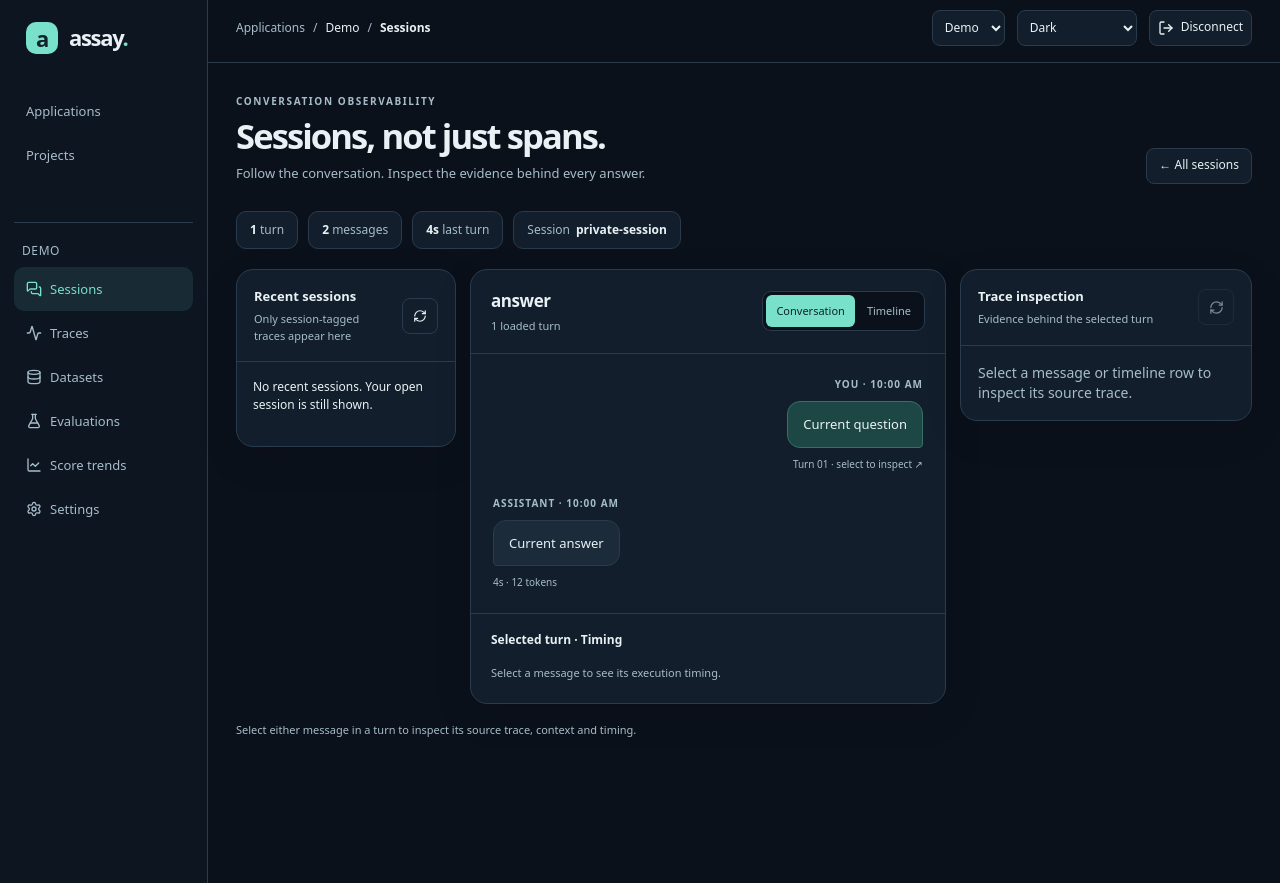
Test: inspector reveals model tools, context and scores
The image size is (1280, 883).
Expected: the text "Prior model context" is not shown
Click the button named "Inspect source for assistant message": (556, 543) [493, 520, 620, 566]
(page scrolled)
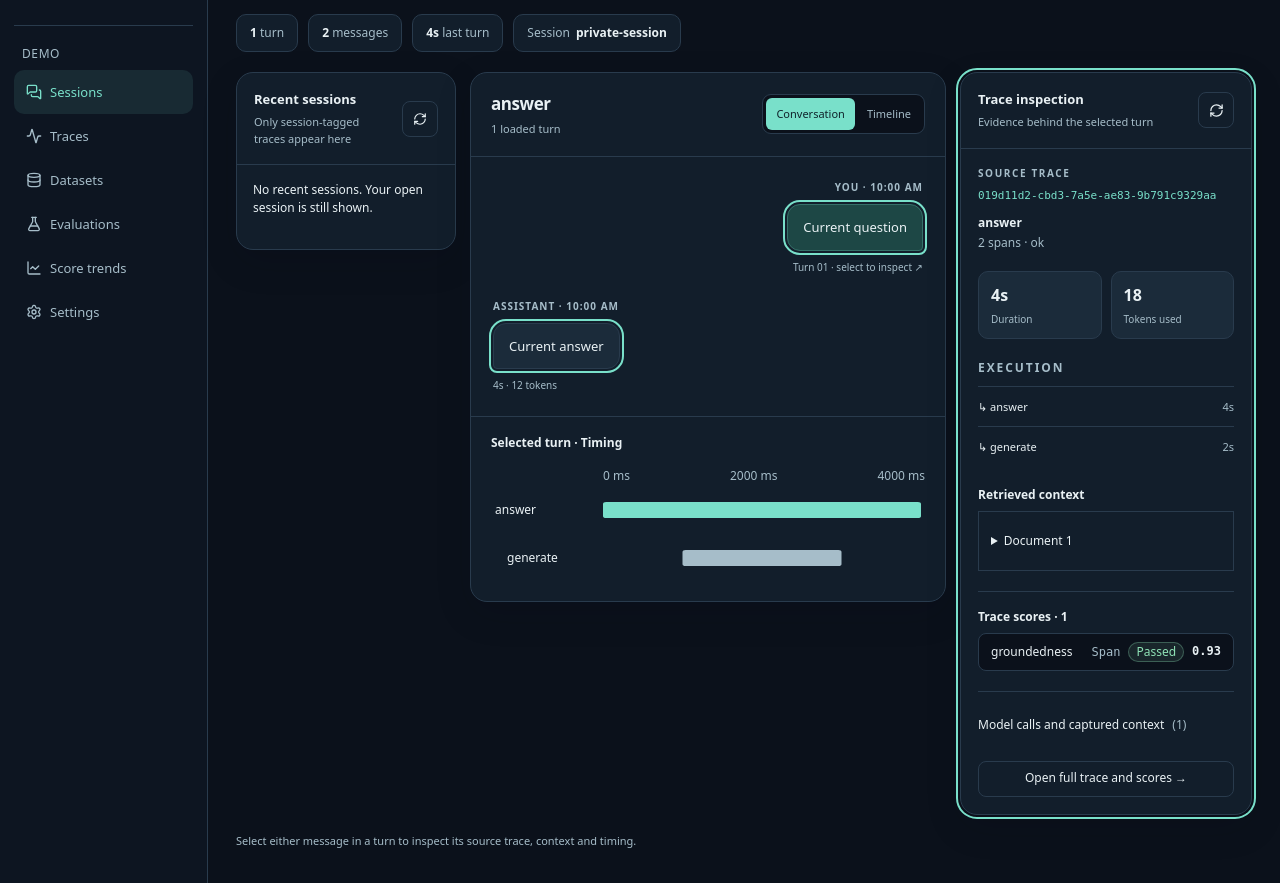
Result: the text "groundedness" is shown at [991, 643, 1072, 660]
Result: the text "0.93" is shown at [1192, 643, 1221, 660]
Click the text "Model calls and captured context": (1071, 724) [978, 716, 1164, 733]
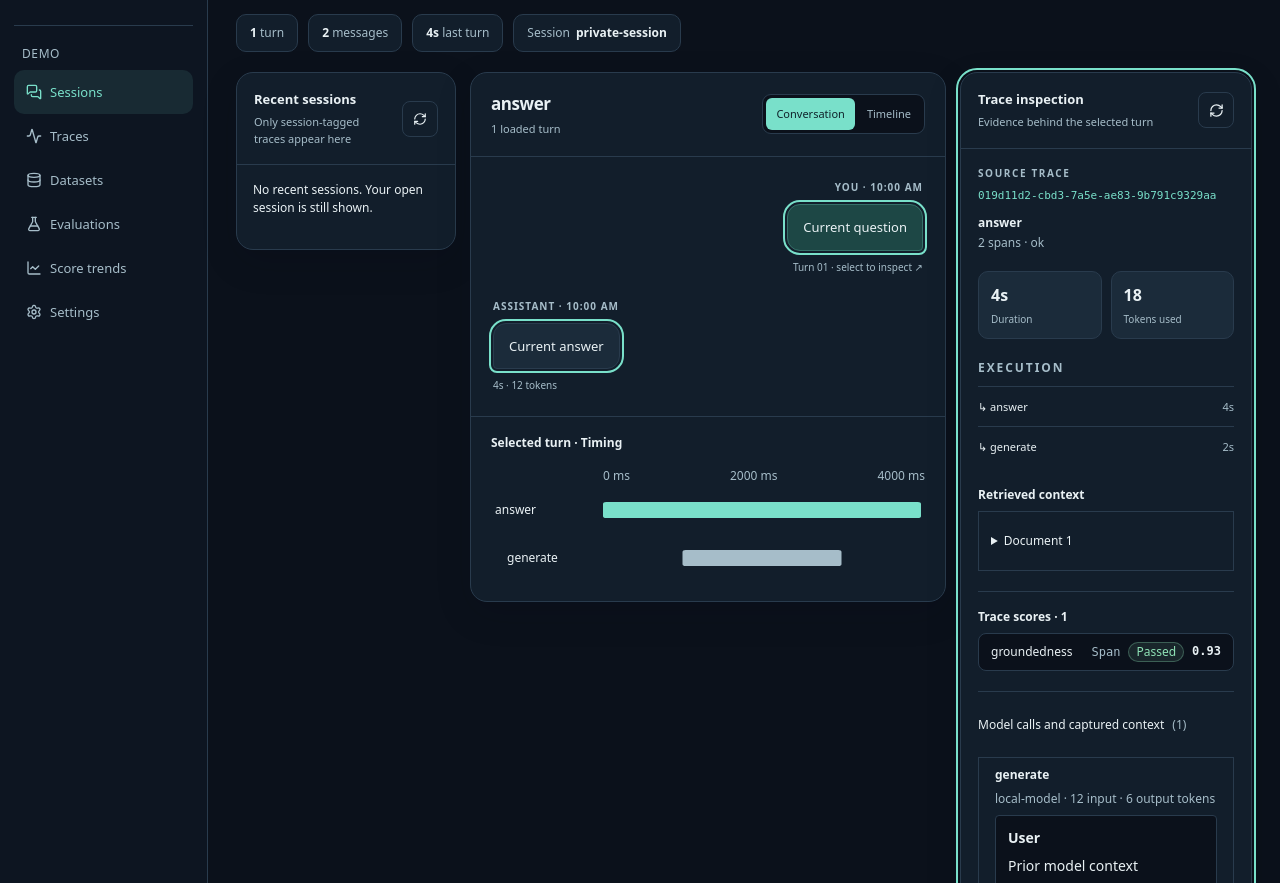
Result: the heading "Retrieved context" is shown at [978, 486, 1084, 503]
Result: the text "Prior model context" is shown at [1008, 856, 1138, 875]
Click the heading "Document 1": (1038, 541) [1004, 532, 1073, 549]
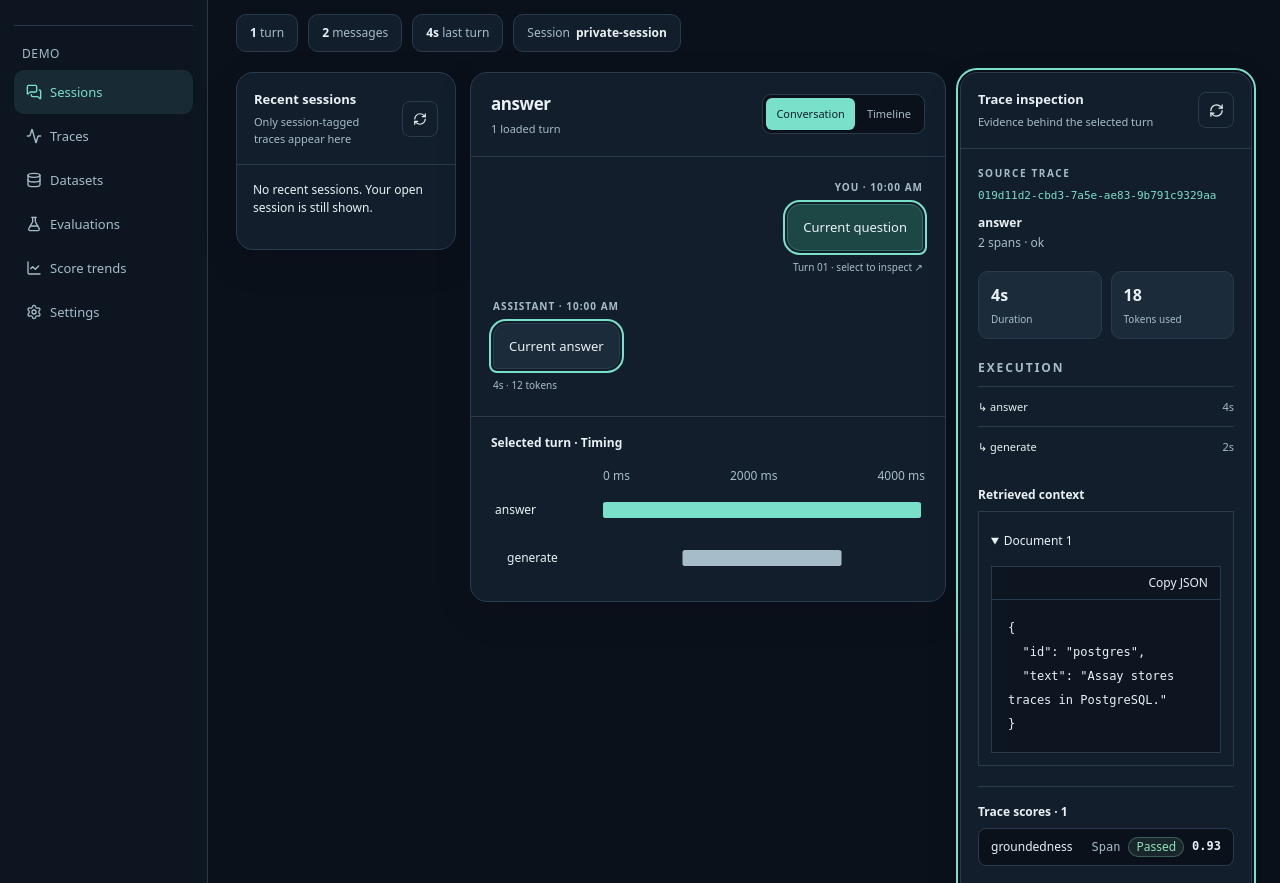
Result: the text "Assay stores traces in PostgreSQL" is shown at [1008, 620, 1181, 730]
Click the text "groundedness": (1032, 847) [991, 838, 1072, 855]
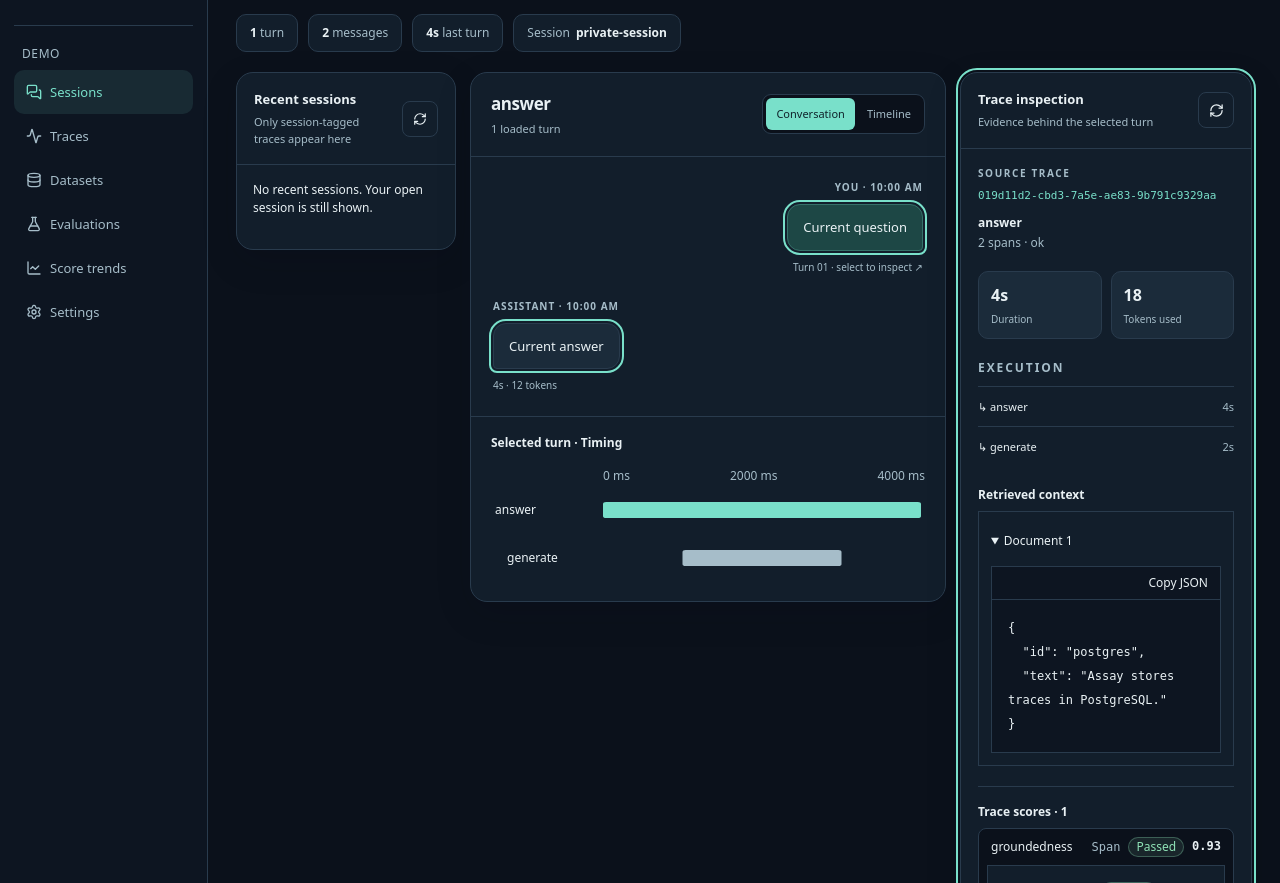
Click the button "↳ generate 2s": (1106, 446) [978, 426, 1234, 466]
(page scrolled)
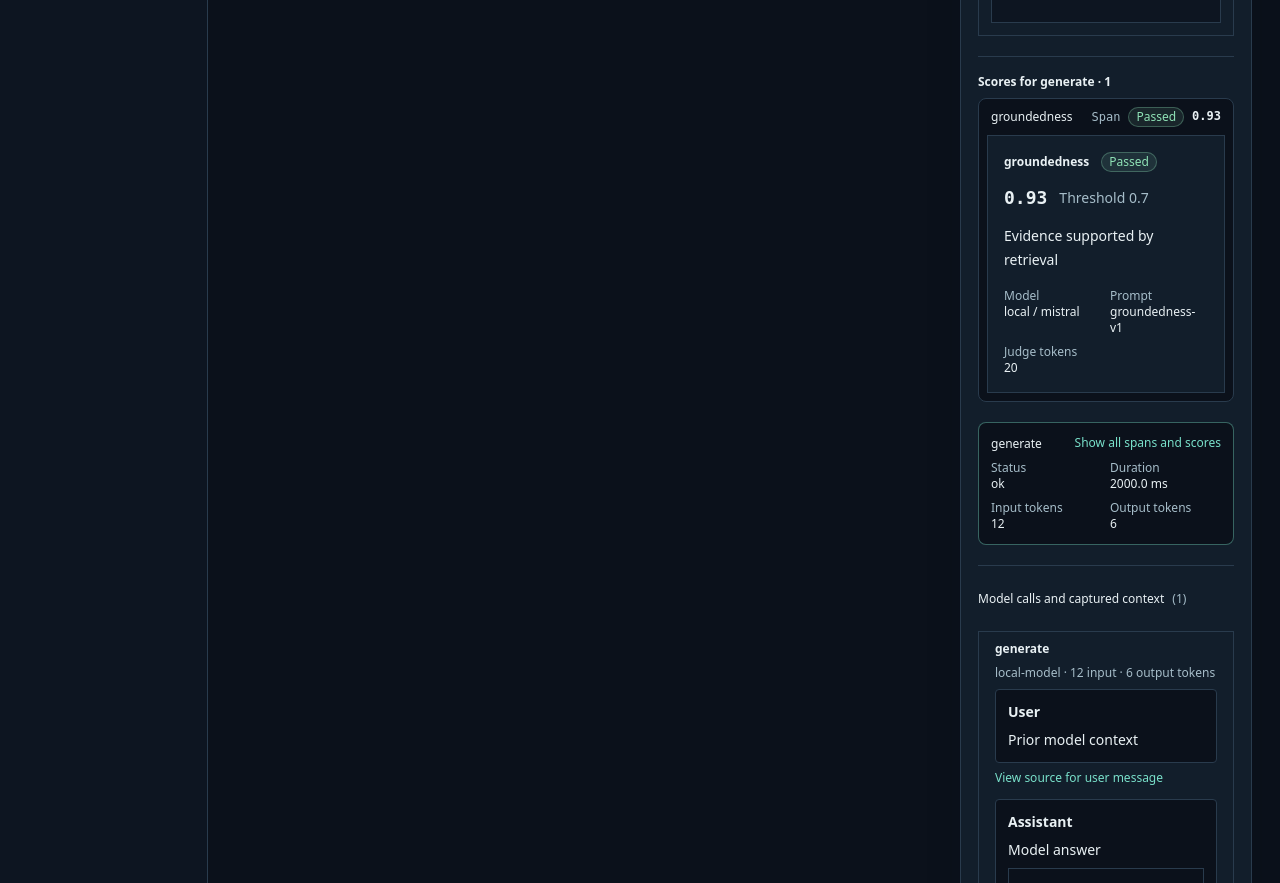
Result: the element named "Selected span" shows "2000.0 ms" at [978, 422, 1234, 545]
Result: the heading "Scores for generate · 1" is shown at [978, 72, 1111, 90]
Click the button "Show all spans and scores": (1148, 443) [1075, 435, 1221, 451]
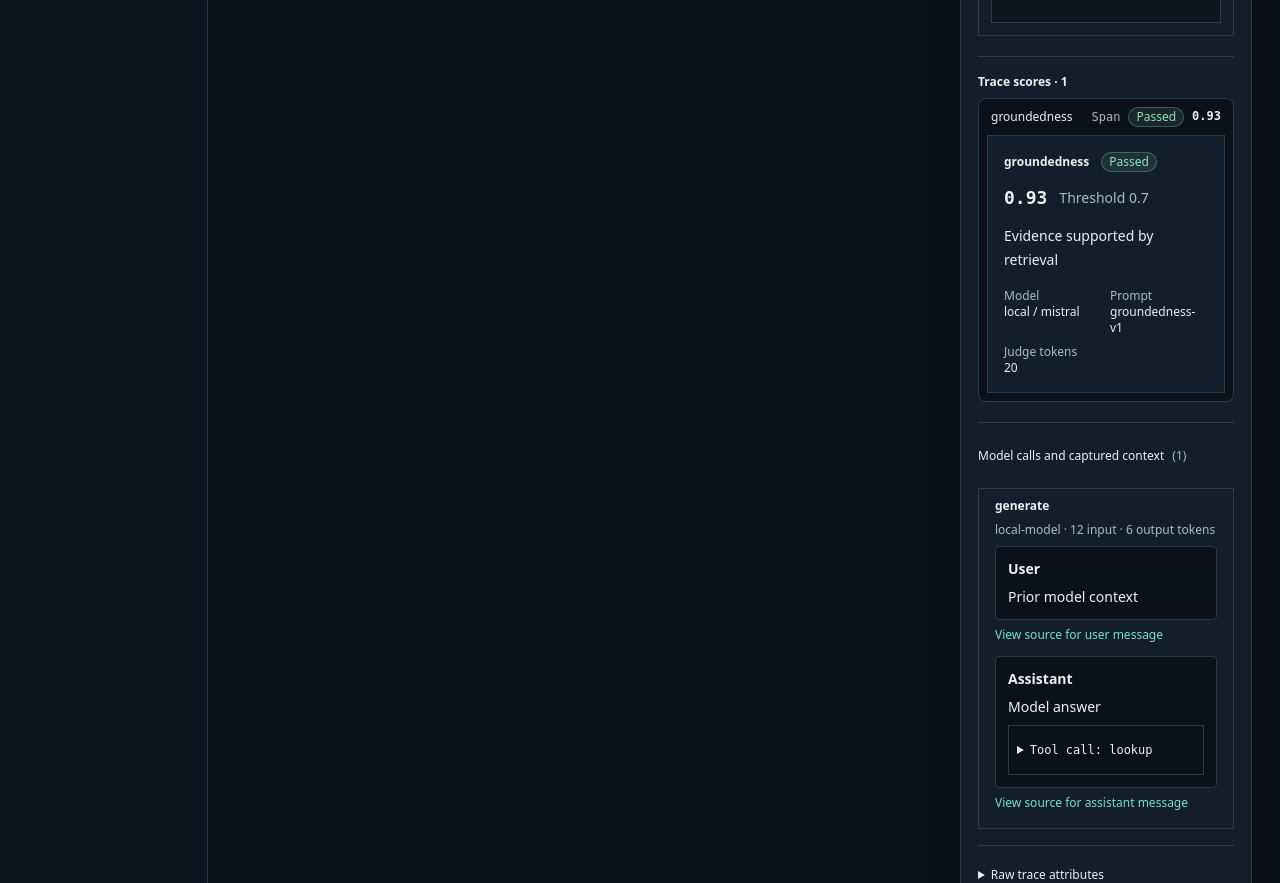
Result: the heading "Trace scores · 1" is shown at [978, 72, 1068, 90]
